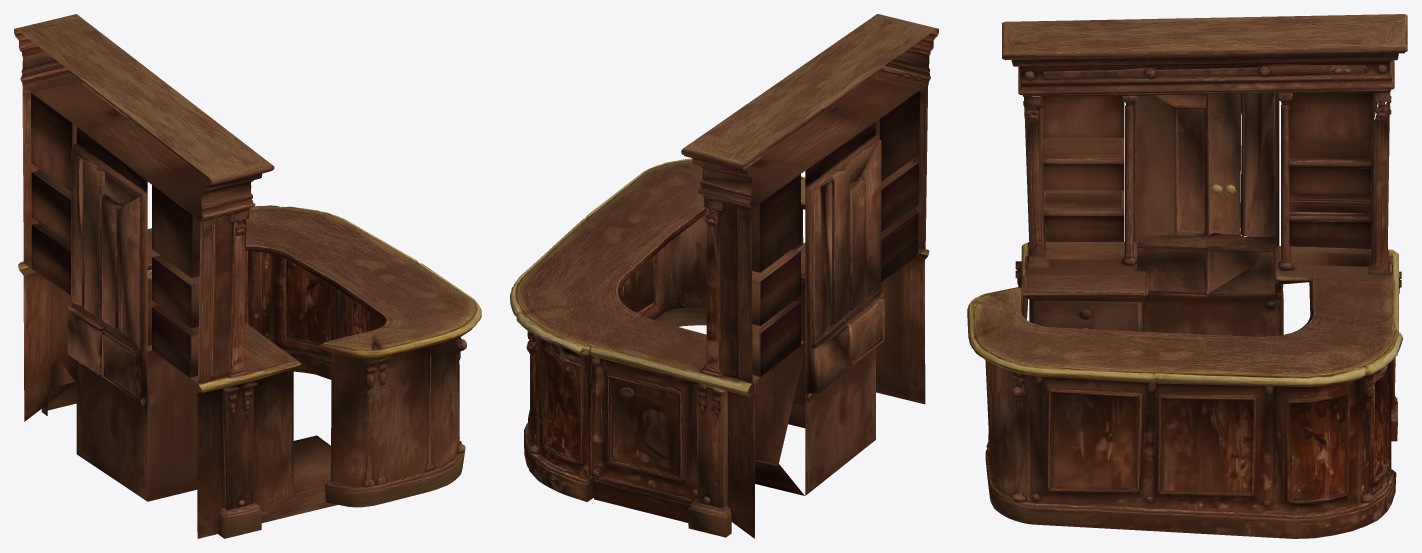
3 renders of one model, left to right at view 1: azimuth 30°, elevation 25°; view 2: azimuth 150°, elevation 25°; view 3: azimuth 270°, elevation 25°, orthographic. The views are drawn at different scales.
Visible parts, largest first — view 1: tripo_node_15ae9953-b961-4575-ac13-f0bc57fdf81d; view 2: tripo_node_15ae9953-b961-4575-ac13-f0bc57fdf81d; view 3: tripo_node_15ae9953-b961-4575-ac13-f0bc57fdf81d.
Boxes of the visible parts, x1,y1,x2,y2 form: tripo_node_15ae9953-b961-4575-ac13-f0bc57fdf81d: (14, 14, 481, 538); tripo_node_15ae9953-b961-4575-ac13-f0bc57fdf81d: (510, 14, 938, 538); tripo_node_15ae9953-b961-4575-ac13-f0bc57fdf81d: (967, 14, 1407, 538).
Size of the model in its own units: 0.7949 by 0.9941 by 0.998.
Materials: 1 (1 with a texture image).
